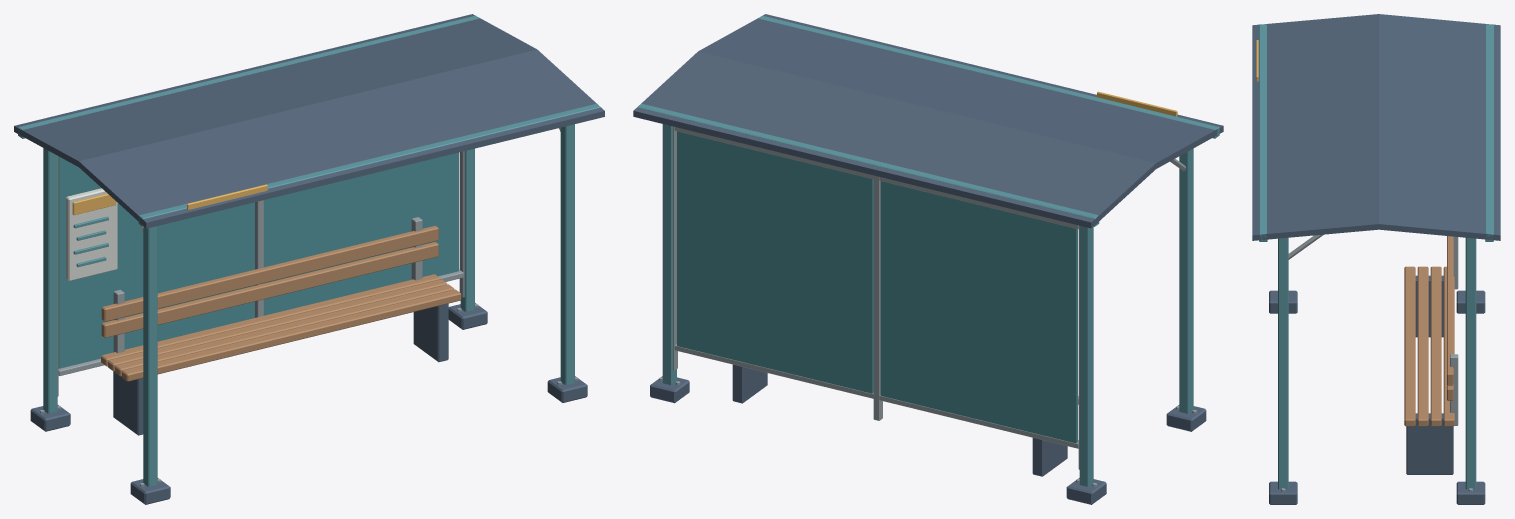
The model's file is bus_stop_shelter.glb.
The picture shows the model from 3 angles, left to right: view 1: azimuth 30°, elevation 25°; view 2: azimuth 150°, elevation 25°; view 3: azimuth 270°, elevation 25°; orthographic projection. The views are drawn at different scales.
Visible parts, largest first — view 1: shelter_pitched_roof, shelter_rear_panel, shelter_rear_panel.001, shelter_bench_back_slat, shelter_bench_back_slat.001, shelter_bench_seat_slat, shelter_corner_post.001, shelter_corner_post, shelter_corner_post.002, shelter_route_board, shelter_bench_seat_slat.002, shelter_bench_seat_slat.001 (+12 smaller); view 2: shelter_pitched_roof, shelter_rear_panel, shelter_rear_panel.001, shelter_corner_post.001, shelter_corner_post, shelter_corner_post.003, shelter_roof_edge.001, shelter_roof_edge, shelter_rear_panel_upright.001, shelter_rear_panel_rail, shelter_rear_panel_rail.002, shelter_bench_leg (+7 smaller); view 3: shelter_pitched_roof, shelter_corner_post.003, shelter_corner_post.002, shelter_bench_leg.001, shelter_bench_seat_slat, shelter_bench_seat_slat.001, shelter_bench_seat_slat.002, shelter_roof_edge, shelter_roof_edge.001, shelter_bench_back_slat.001, shelter_bench_seat_slat.003, shelter_post_base.003 (+6 smaller).
Part boxes in pixels (box(x1,y1,x2,y2)): shelter_pitched_roof: box(14, 14, 604, 228); shelter_rear_panel: box(58, 156, 254, 368); shelter_rear_panel.001: box(264, 152, 458, 315); shelter_bench_back_slat: box(101, 242, 438, 337); shelter_bench_back_slat.001: box(101, 225, 438, 321); shelter_bench_seat_slat: box(122, 289, 461, 381); shelter_corner_post.001: box(43, 148, 57, 413); shelter_corner_post: box(143, 226, 157, 486); shelter_corner_post.002: box(560, 124, 574, 384); shelter_route_board: box(66, 188, 117, 280); shelter_bench_seat_slat.002: box(108, 279, 447, 371); shelter_bench_seat_slat.001: box(115, 284, 454, 376); shelter_pitched_roof: box(633, 14, 1223, 228); shelter_rear_panel: box(880, 181, 1077, 443); shelter_rear_panel.001: box(677, 131, 873, 393); shelter_corner_post.001: box(1079, 226, 1093, 486); shelter_corner_post: box(1179, 148, 1193, 413); shelter_corner_post.003: box(662, 124, 676, 385); shelter_roof_edge.001: box(637, 104, 1099, 226); shelter_roof_edge: box(758, 15, 1219, 138); shelter_rear_panel_upright.001: box(873, 175, 882, 420); shelter_rear_panel_rail: box(879, 395, 1078, 448); shelter_rear_panel_rail.002: box(674, 344, 873, 398); shelter_bench_leg: box(1032, 438, 1067, 476); shelter_pitched_roof: box(1252, 14, 1500, 240); shelter_corner_post.003: box(1465, 237, 1476, 489); shelter_corner_post.002: box(1278, 237, 1288, 489); shelter_bench_leg.001: box(1406, 413, 1453, 474); shelter_bench_seat_slat: box(1404, 266, 1415, 426); shelter_bench_seat_slat.001: box(1417, 266, 1428, 426); shelter_bench_seat_slat.002: box(1430, 266, 1441, 426); shelter_roof_edge: box(1259, 24, 1267, 241); shelter_roof_edge.001: box(1485, 24, 1493, 241); shelter_bench_back_slat.001: box(1447, 236, 1453, 385); shelter_bench_seat_slat.003: box(1443, 266, 1454, 426); shelter_post_base.003: box(1456, 481, 1485, 504).
Size of the model in its own units: 4 by 2.53 by 2.
